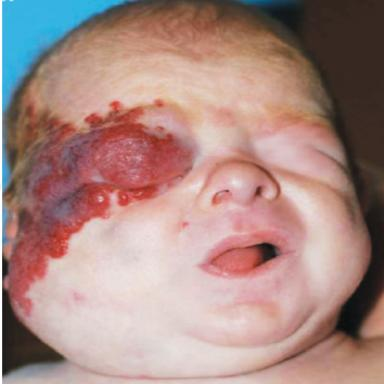Hemangiome: (10, 108, 191, 312)
